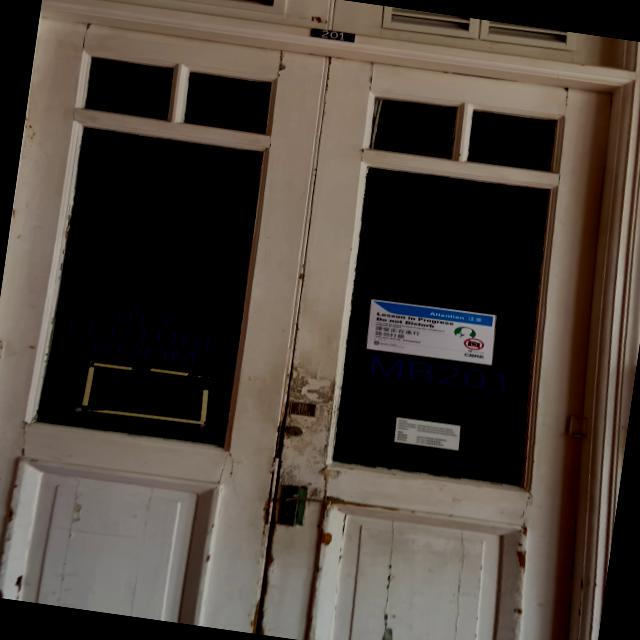room201: (306, 26, 358, 44)
room201Window: (358, 350, 516, 398)
